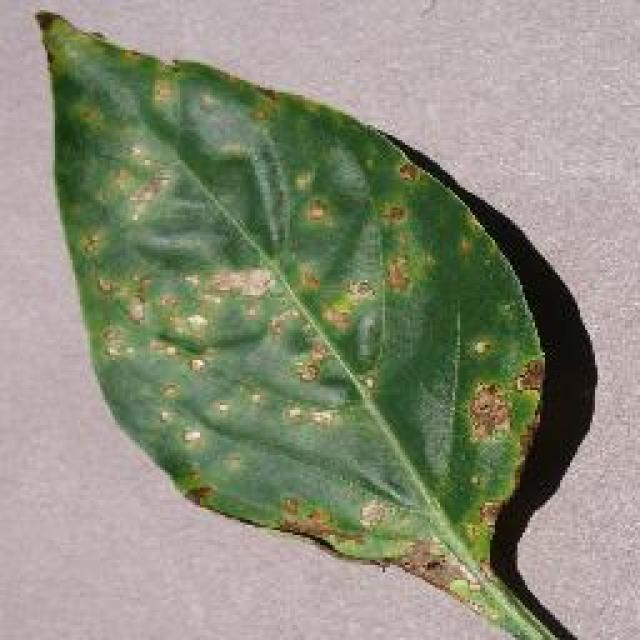Chilli_Bacterial_Spot: (30, 7, 552, 585), (462, 377, 512, 445), (162, 307, 212, 345), (95, 320, 130, 365), (510, 355, 548, 395), (352, 495, 390, 533), (380, 253, 412, 295), (300, 192, 330, 228), (288, 162, 318, 198), (375, 198, 410, 228), (392, 158, 422, 188), (442, 572, 472, 602), (467, 332, 495, 360)
